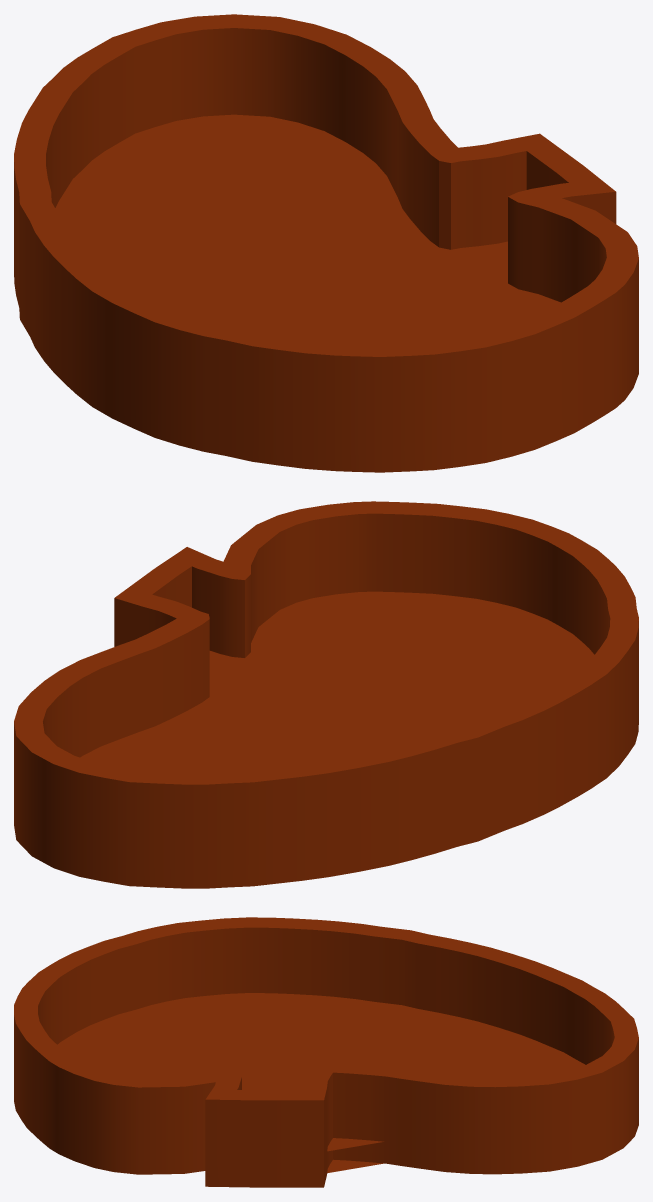
The model's file is 2016_14_04_Extruded_Kidney_No_Cuts.fbx.
The picture shows the model from 3 angles, top to bottom: view 1: azimuth 30°, elevation 25°; view 2: azimuth 150°, elevation 25°; view 3: azimuth 270°, elevation 25°; orthographic projection. The views are drawn at different scales.
Visible parts, largest first — view 1: polySurface1; view 2: polySurface1; view 3: polySurface1.
Part boxes in pixels (x1,y1,x2,y2): polySurface1: [14, 14, 638, 472]; polySurface1: [14, 501, 638, 888]; polySurface1: [14, 917, 638, 1187].
Size of the model in its own units: 18.01 by 4 by 25.99.
